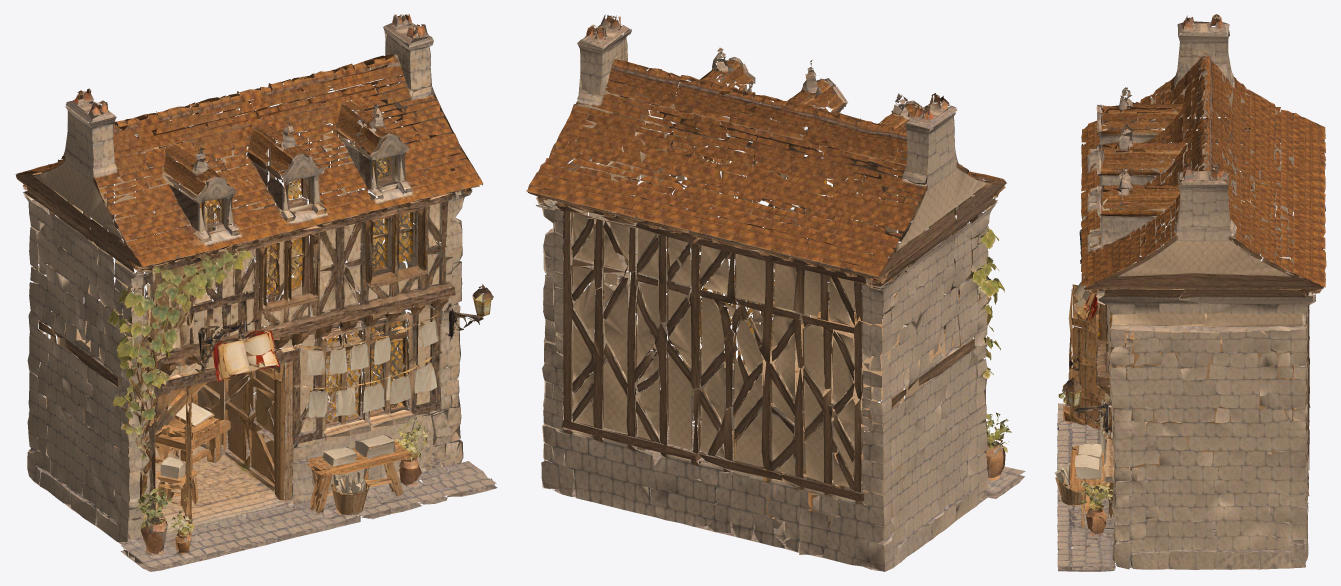
Rendered from imprimerie.glb.
3 views of the same model, side by side, from view 1: azimuth 30°, elevation 25°; view 2: azimuth 150°, elevation 25°; view 3: azimuth 270°, elevation 25° (orthographic). The views are drawn at different scales.
Visible parts, largest first — view 1: imprimerie; view 2: imprimerie; view 3: imprimerie.
Part boxes in pixels (<box>): imprimerie: <box>15,14,497,571</box>; imprimerie: <box>526,14,1025,571</box>; imprimerie: <box>1054,14,1326,571</box>.
Bounding box in the file's own units: 8.35 × 9.43 × 5.76.
1 material, 1 textured.
